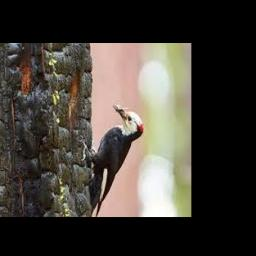Woodpecker: (79, 102, 142, 217)
